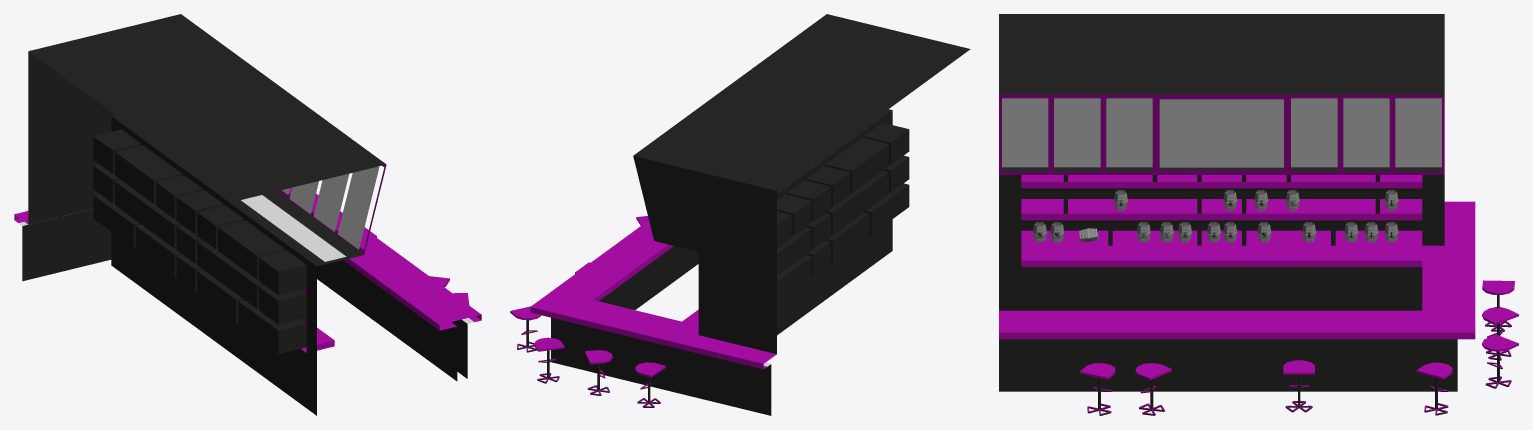
File: Bar.fbx
The picture shows the model from 3 angles, left to right: view 1: azimuth 30°, elevation 25°; view 2: azimuth 150°, elevation 25°; view 3: azimuth 270°, elevation 25°; orthographic projection. The views are drawn at different scales.
Visible parts, largest first — view 1: Bar; view 2: Bar; view 3: Bar.
Boxes of the visible parts, bbox=[...] form: Bar: bbox=[14, 14, 481, 415]; Bar: bbox=[510, 14, 970, 415]; Bar: bbox=[999, 14, 1518, 415].
Size of the model in its own units: 10.14 by 14.77 by 7.96.
